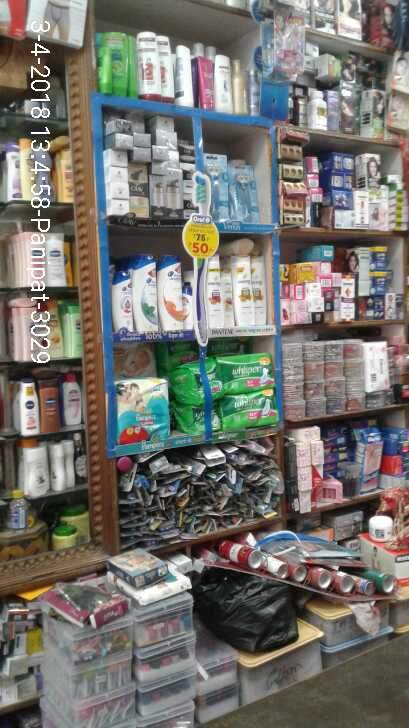venus: (229, 162, 261, 221), (210, 154, 228, 219)
